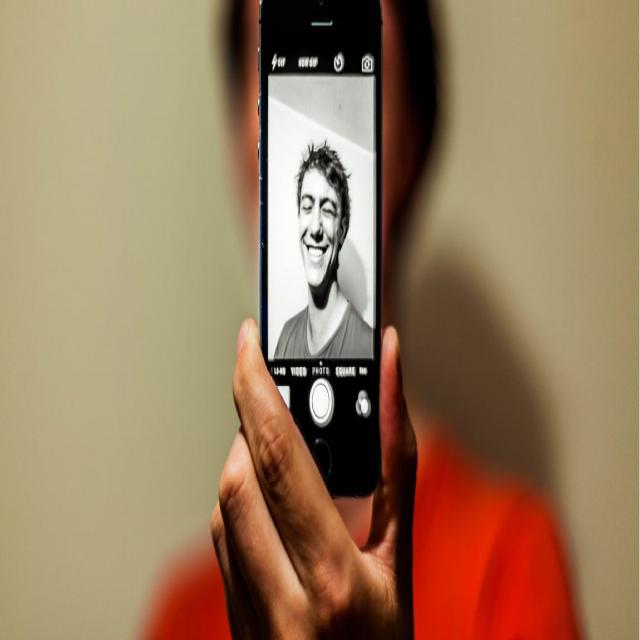device: (258, 2, 388, 492)
